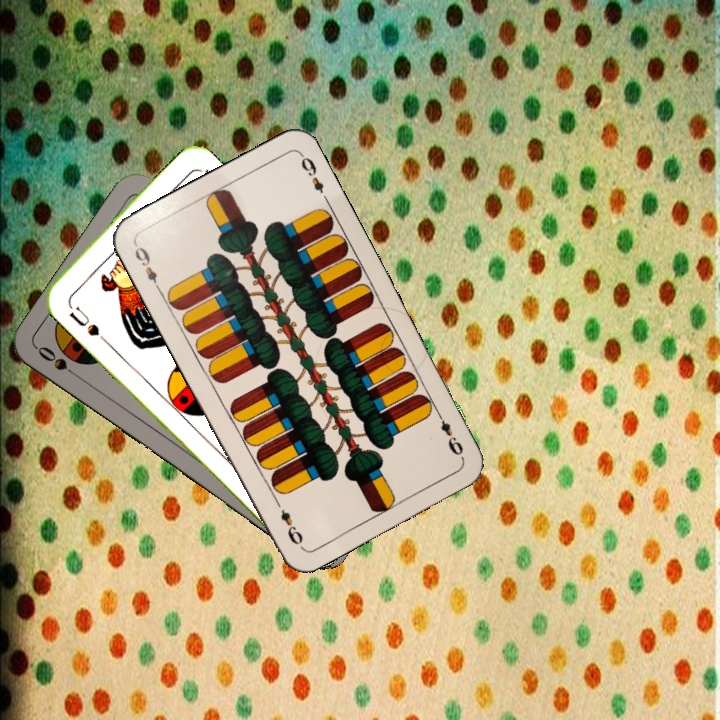E9: (432, 407, 467, 461), (130, 239, 164, 294)
SO: (33, 341, 85, 382)
SU: (63, 297, 102, 339)
